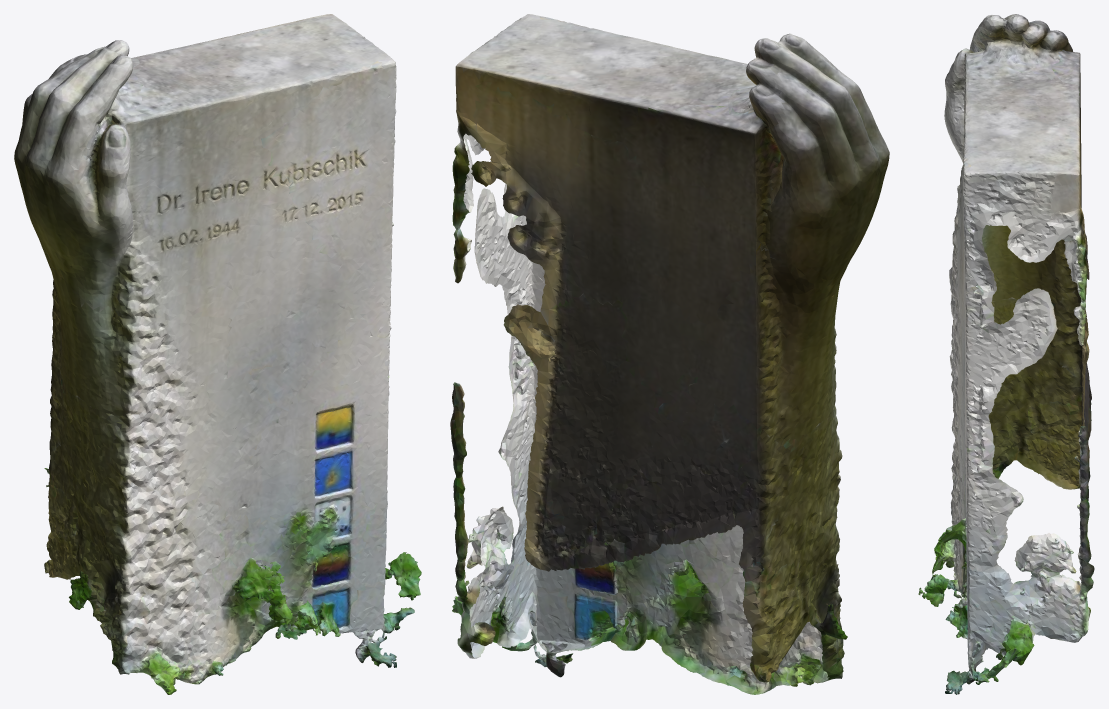
The picture shows the model from 3 angles, left to right: view 1: azimuth 30°, elevation 25°; view 2: azimuth 150°, elevation 25°; view 3: azimuth 270°, elevation 25°; orthographic projection. The views are drawn at different scales.
Parts seen in each view (by area): view 1: 512.25k; view 2: 512.25k; view 3: 512.25k.
Boxes of the visible parts, x1,y1,x2,y2 form: 512.25k: (14,14,421,694); 512.25k: (450,14,889,694); 512.25k: (918,14,1094,694).
Size of the model in its own units: 1.71 by 2.75 by 0.7623.
1 material, 1 textured.
